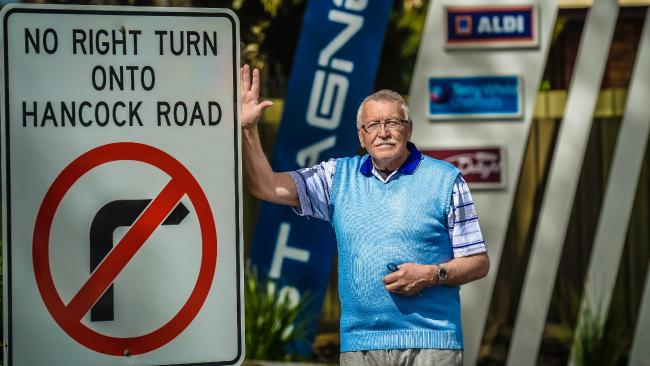No_right_turn: (30, 142, 217, 357)
